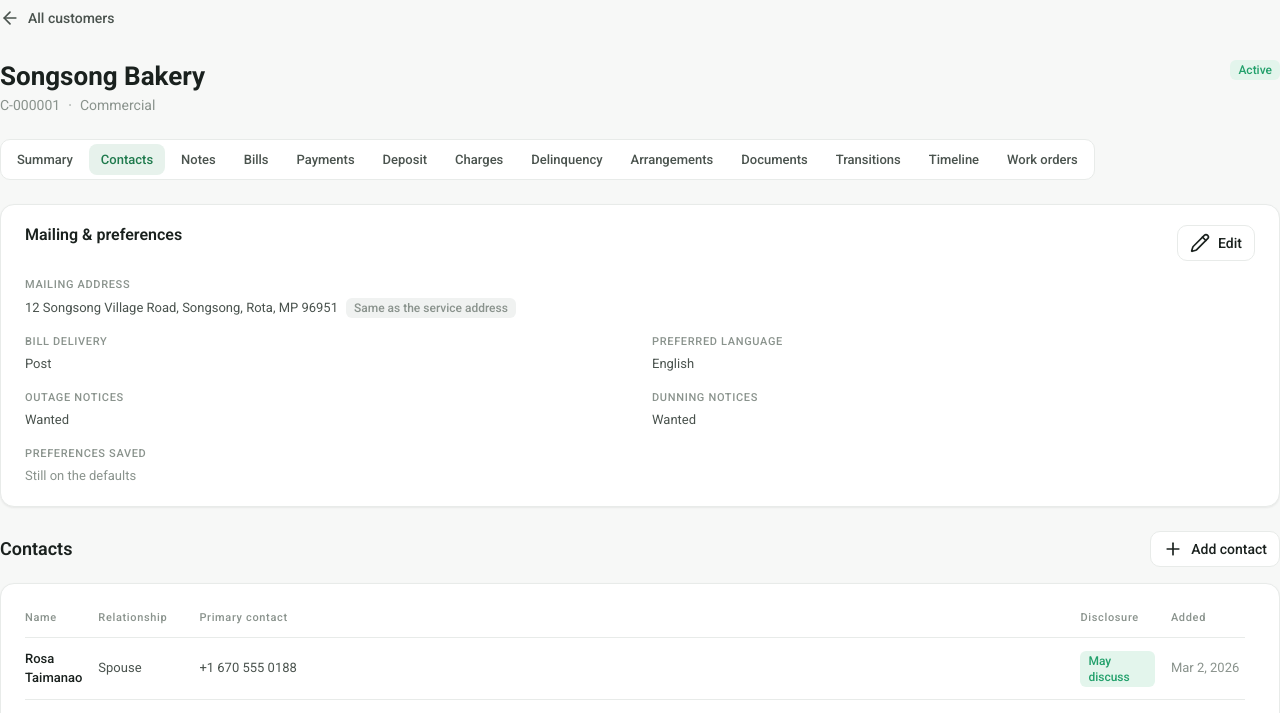
it: the contacts tab › will not add a contact with no name
Click the button "Add contact". click: (1215,548)
box: [1150,530,1279,566]
(page scrolled)
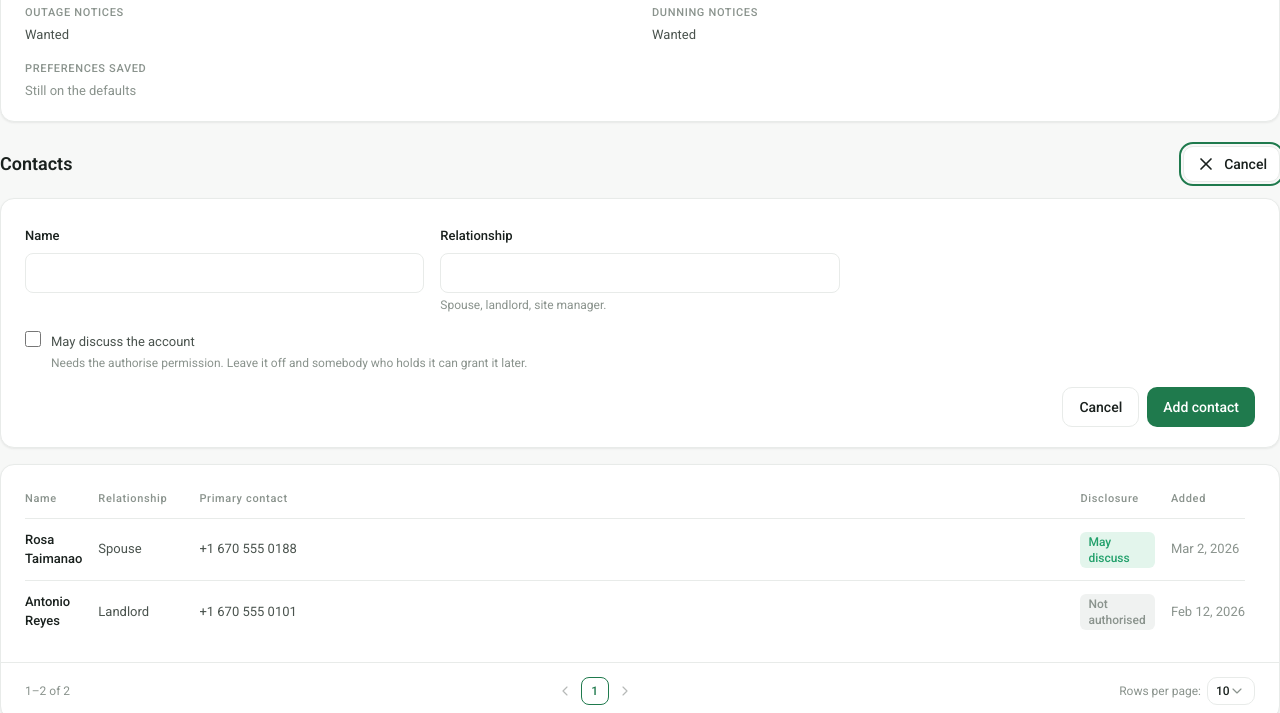
Click the button "Add contact". click: (1201,406)
box: [1147,386,1255,426]
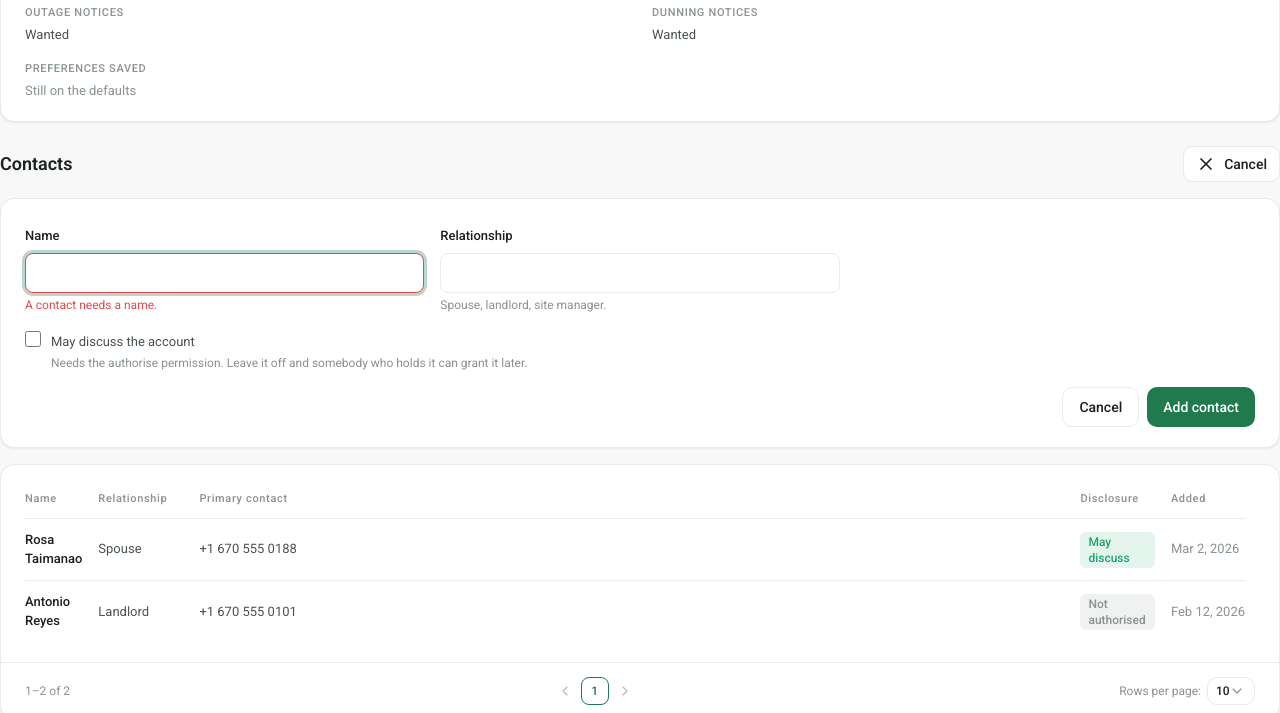
expect the text "A contact needs a name." is shown: met, box [25,298,157,312]
